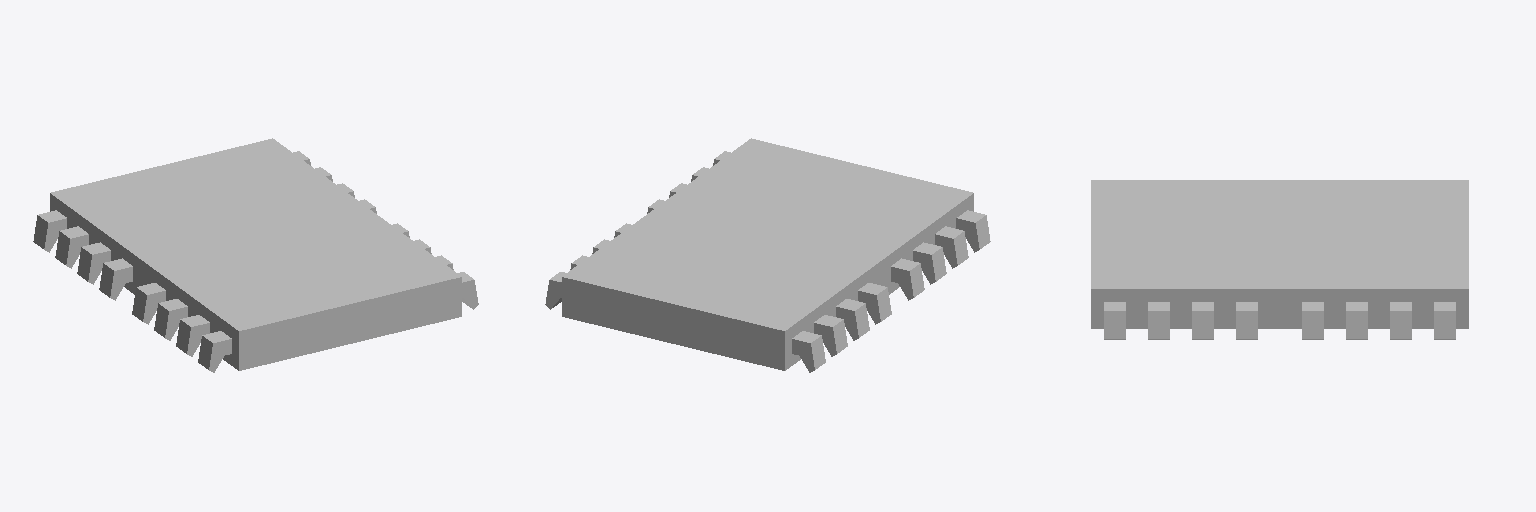
The model's file is chip.obj.
3 views of the same model, side by side, from view 1: azimuth 30°, elevation 25°; view 2: azimuth 150°, elevation 25°; view 3: azimuth 270°, elevation 25° (orthographic).
Parts seen in each view (by area): view 1: Cube; view 2: Cube; view 3: Cube.
Boxes of the visible parts, x1,y1,x2,y2 form: Cube: [33, 138, 478, 372]; Cube: [545, 138, 990, 372]; Cube: [1091, 180, 1468, 339].
Bounding box in the file's own units: 0.8258 × 0.1239 × 1.